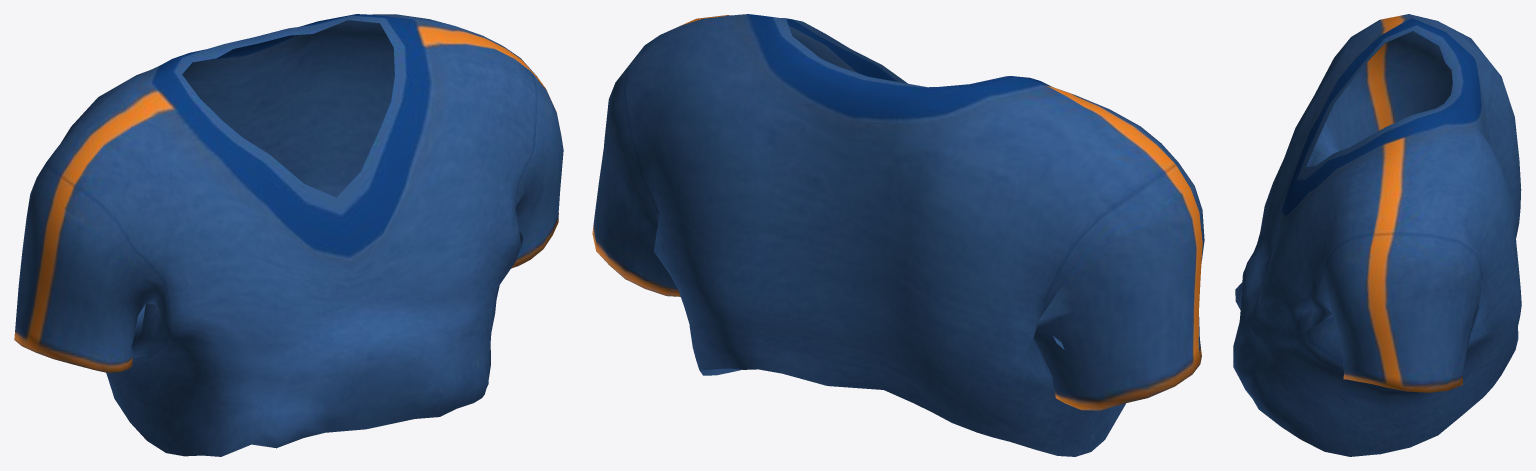
The model's file is top_sport_crop.gltf.
The picture shows the model from 3 angles, left to right: view 1: azimuth 30°, elevation 25°; view 2: azimuth 150°, elevation 25°; view 3: azimuth 270°, elevation 25°; orthographic projection. The views are drawn at different scales.
Visible parts, largest first — view 1: top_sport_crop; view 2: top_sport_crop; view 3: top_sport_crop.
Boxes of the visible parts, x1,y1,x2,y2 form: top_sport_crop: (14,14,563,456); top_sport_crop: (592,14,1204,456); top_sport_crop: (1233,14,1521,456).
Bounding box in the file's own units: 0.4956 × 0.3134 × 0.2581.
Materials: 1 (1 with a texture image).
